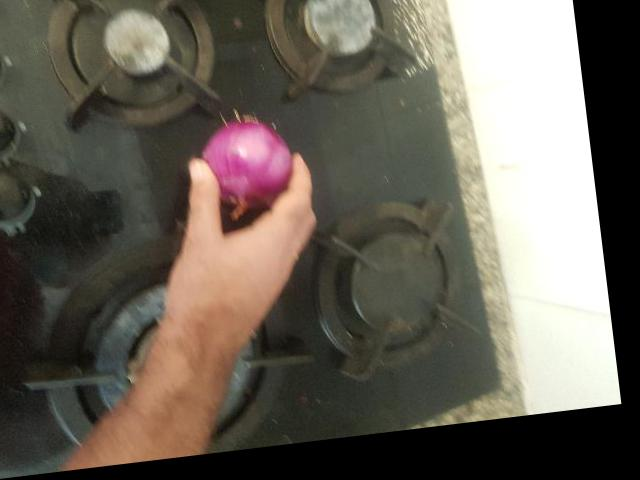onion: (347, 39, 422, 131)
